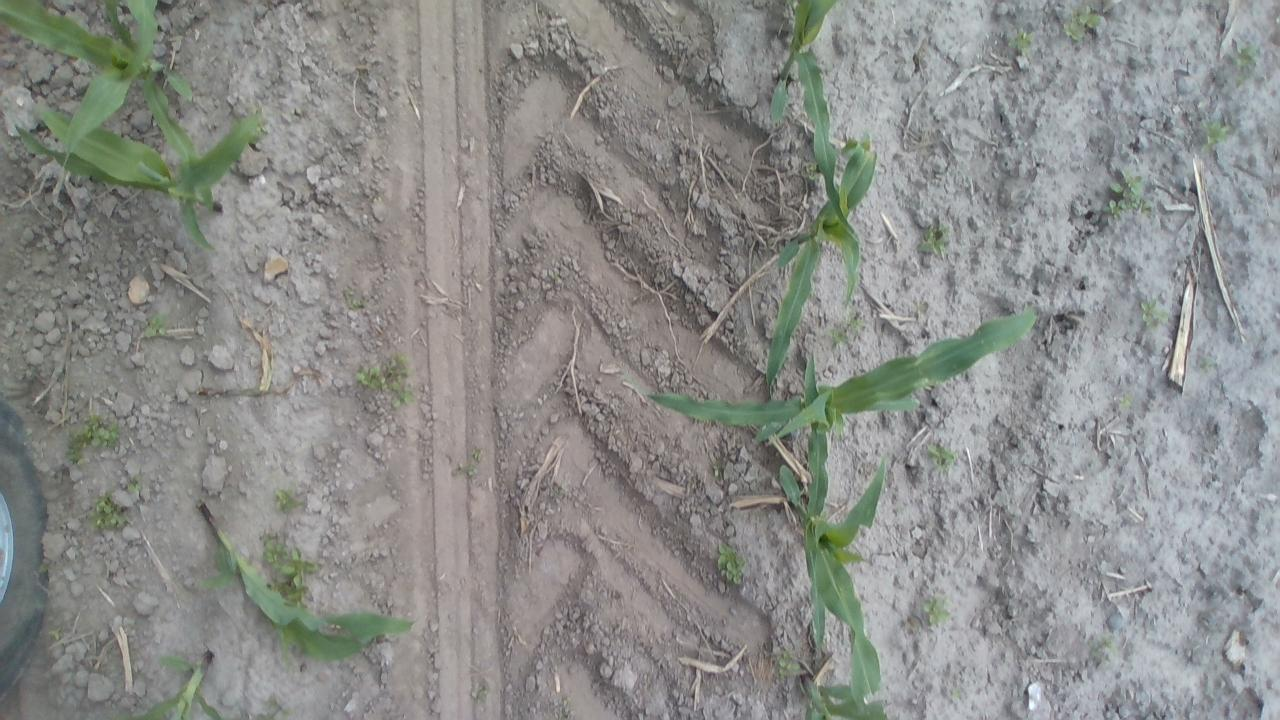Maize: (625, 310, 1039, 486), (12, 93, 263, 258), (186, 496, 424, 670), (772, 399, 899, 713), (0, 0, 204, 175), (748, 125, 879, 392), (759, 0, 868, 254), (115, 647, 241, 718), (794, 670, 890, 718)
Weeds: (265, 532, 320, 606), (354, 352, 415, 410), (66, 414, 122, 463), (1104, 168, 1154, 220), (88, 490, 132, 534), (712, 542, 749, 589), (1062, 6, 1104, 45), (916, 221, 952, 262), (1196, 116, 1234, 154), (919, 594, 952, 632), (1090, 630, 1123, 668), (827, 315, 864, 347), (271, 486, 309, 517), (924, 440, 958, 474), (1232, 41, 1262, 78), (1138, 296, 1171, 328), (458, 446, 486, 479), (140, 313, 172, 341), (258, 696, 298, 718), (123, 472, 149, 500), (342, 286, 368, 314), (1006, 28, 1034, 54), (770, 650, 798, 674), (469, 680, 492, 706), (1115, 391, 1139, 413), (554, 696, 576, 719), (949, 680, 967, 706), (549, 482, 572, 502), (548, 266, 566, 290), (802, 162, 822, 182), (1198, 352, 1216, 374), (912, 298, 928, 316), (292, 105, 309, 120), (49, 628, 65, 640)
